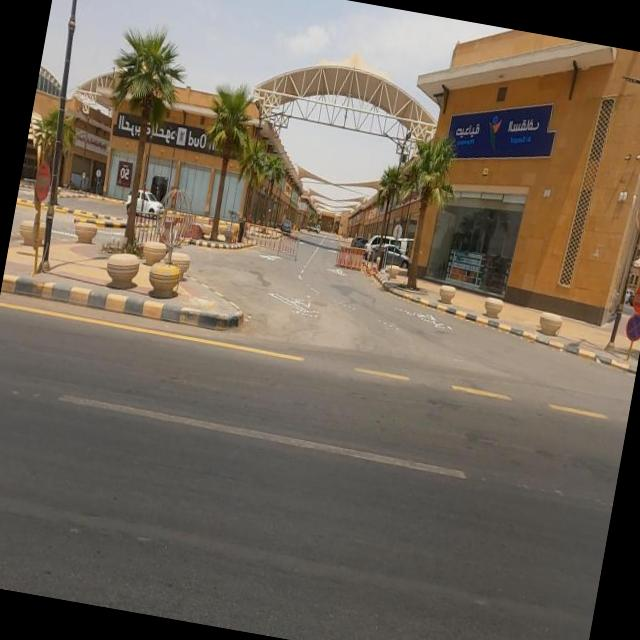debris: (1, 108, 88, 297), (600, 232, 640, 399)
